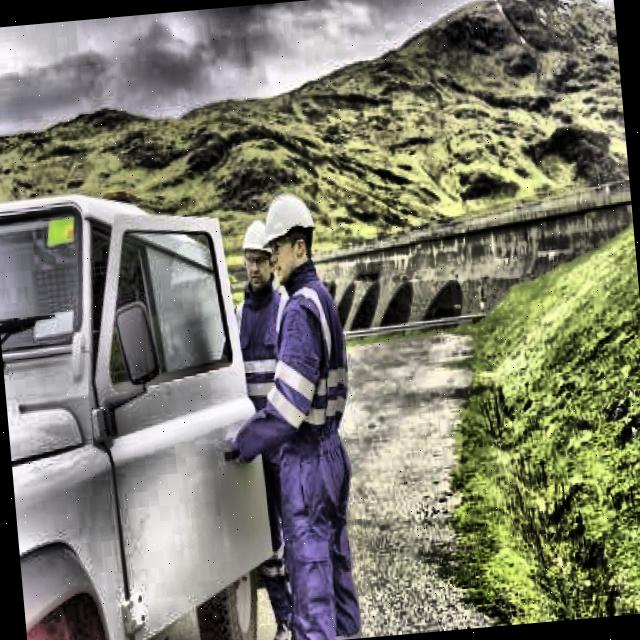helmet: (261, 186, 319, 278), (235, 216, 280, 290)
